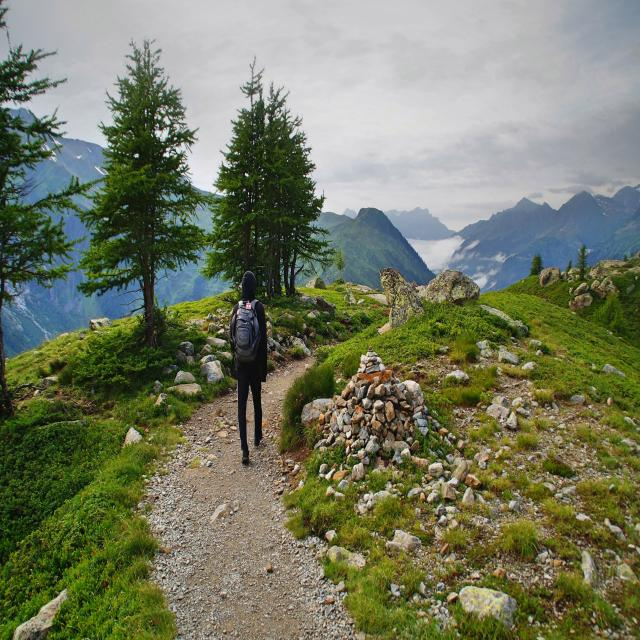adult: (231, 269, 268, 464)
